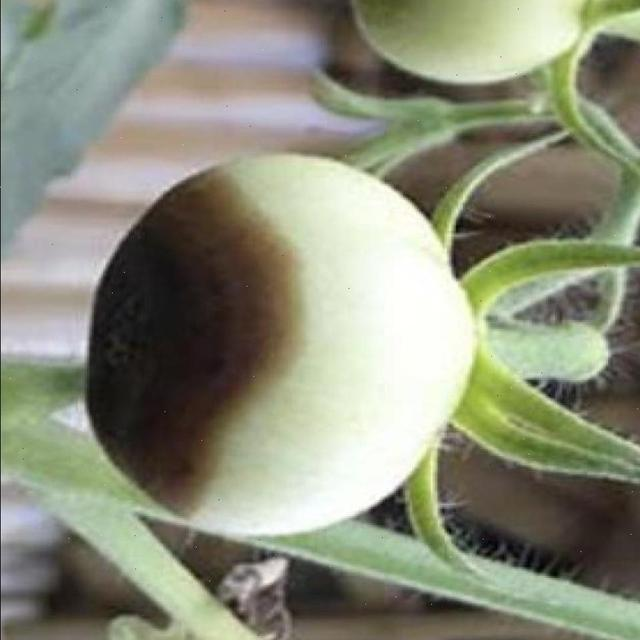Blossom End Rot Fruit: (59, 105, 210, 352)
